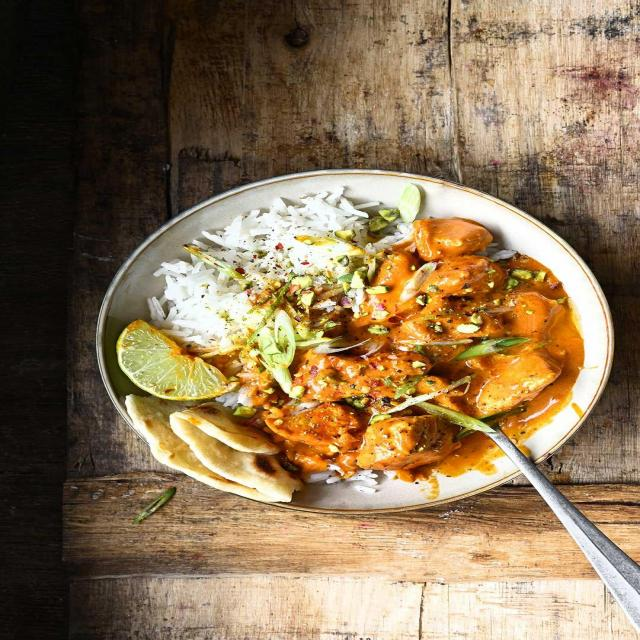chicken: (302, 252, 596, 474)
rice: (157, 181, 332, 345)
roti: (130, 412, 306, 497)
